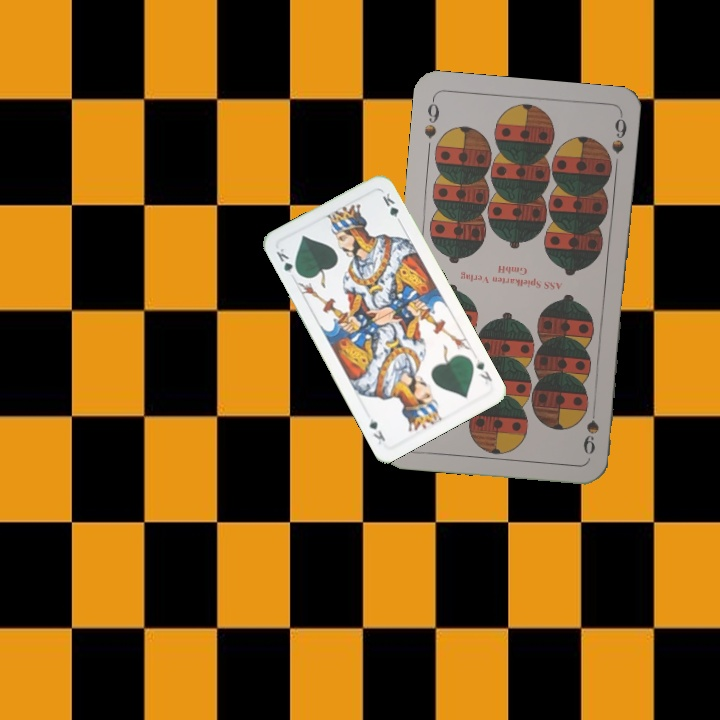GK: (272, 244, 302, 278), (472, 355, 495, 387)
S9: (579, 400, 602, 457), (420, 95, 442, 141)
